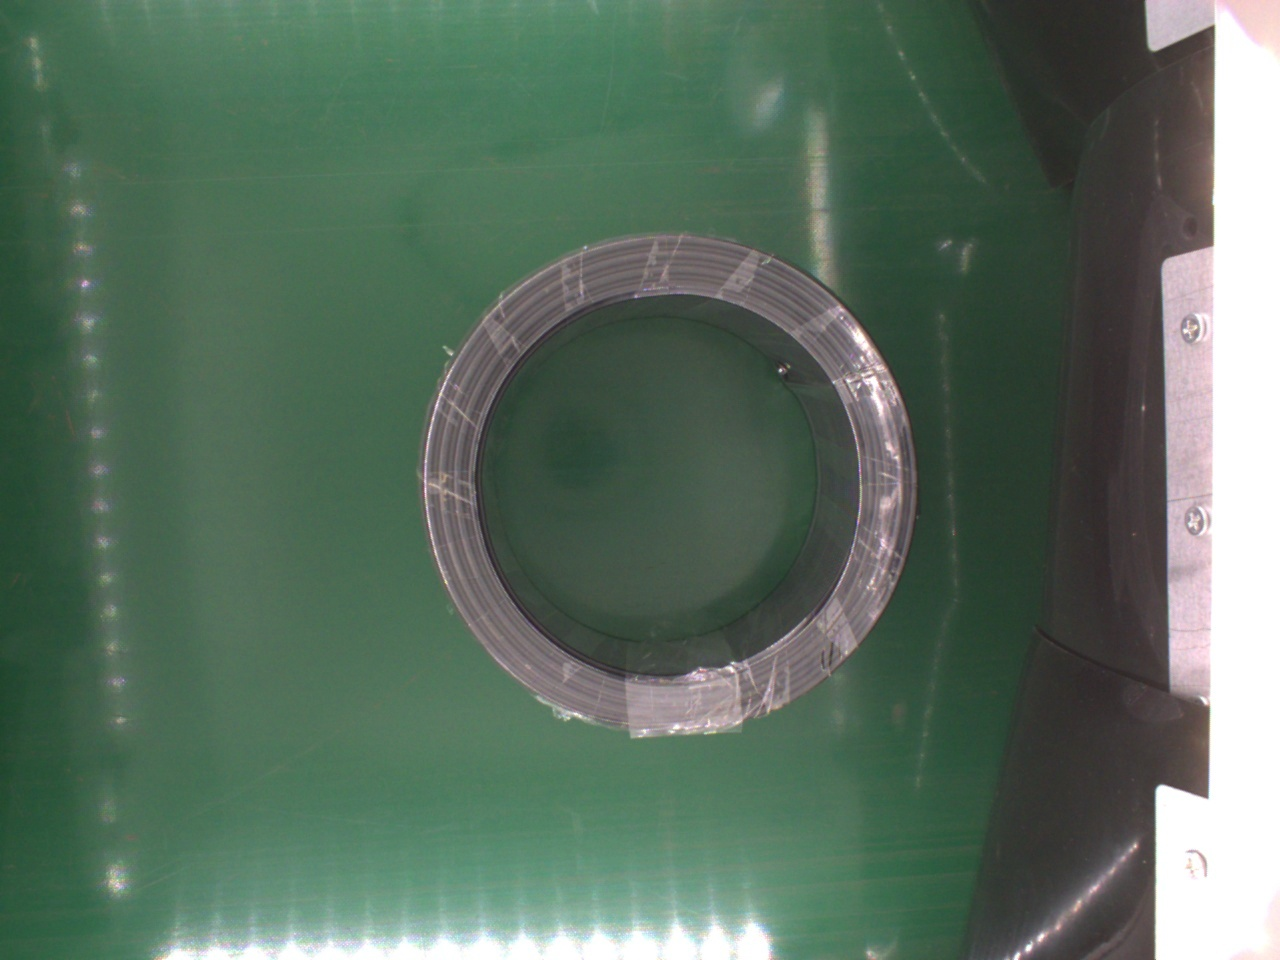black: (416, 232, 919, 736)
